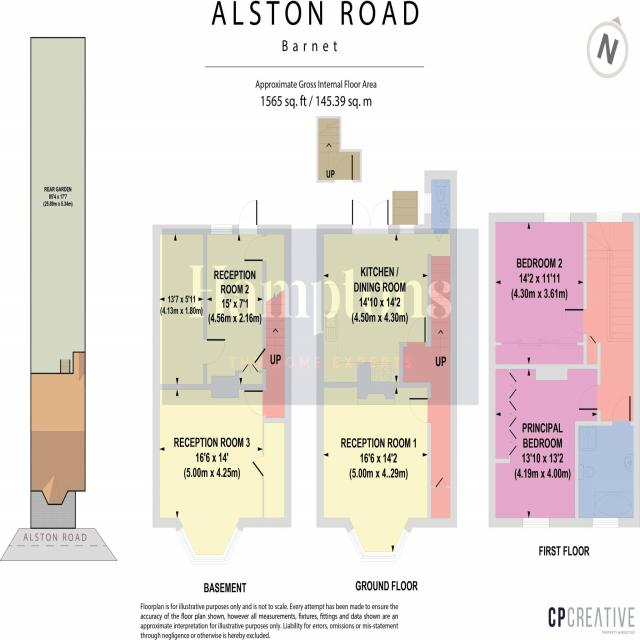DOOR: (237, 197, 259, 235), (577, 380, 601, 413), (610, 393, 633, 426), (405, 314, 427, 347), (242, 235, 267, 264), (242, 387, 266, 417), (408, 396, 432, 426), (563, 306, 587, 336), (203, 337, 227, 366), (250, 454, 265, 479), (253, 345, 267, 370)
DOUBLE DOOR: (350, 196, 392, 234)
ROOM: (317, 173, 458, 392), (317, 382, 432, 562), (153, 384, 266, 567), (489, 363, 601, 528), (489, 212, 587, 370), (202, 194, 267, 390)
WINDOW: (175, 522, 244, 567), (344, 525, 413, 564), (542, 210, 573, 226), (520, 515, 551, 530), (595, 210, 624, 225), (590, 516, 621, 529), (210, 222, 233, 236), (423, 191, 433, 216), (399, 222, 415, 236)
